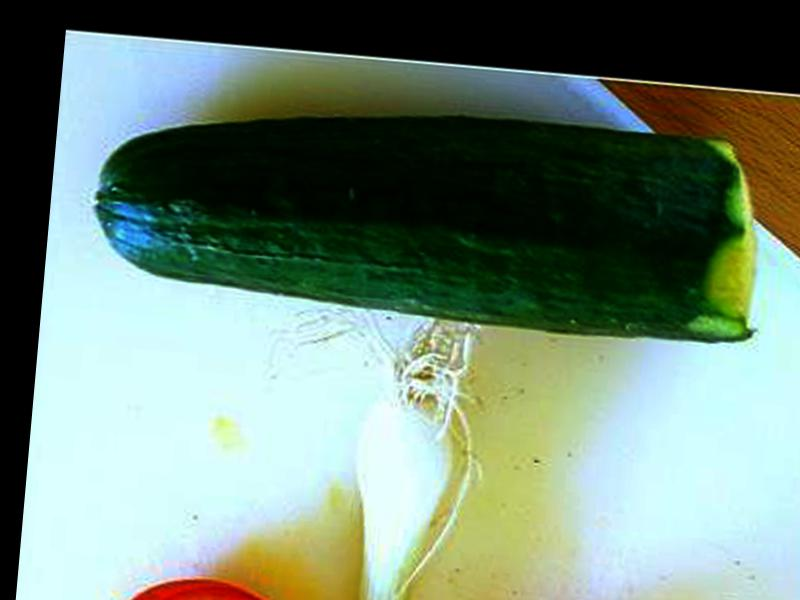Cucumber: (83, 82, 770, 346)
